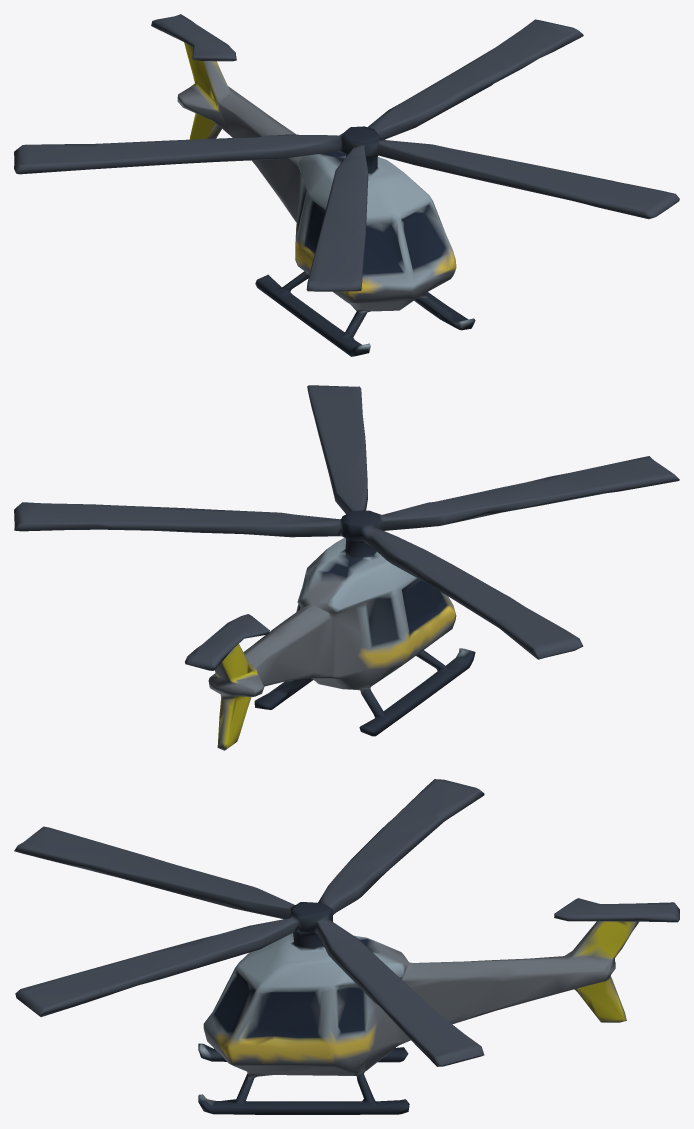
The model's file is gen3d-helicopter-lod0.glb.
3 renders of one model, top to bottom at view 1: azimuth 30°, elevation 25°; view 2: azimuth 150°, elevation 25°; view 3: azimuth 270°, elevation 25°, orthographic. The views are drawn at different scales.
Visible parts, largest first — view 1: part_0; view 2: part_0; view 3: part_0.
Part boxes in pixels (bbox=[...]): part_0: bbox=[14, 14, 679, 356]; part_0: bbox=[14, 385, 679, 750]; part_0: bbox=[14, 779, 679, 1114].
Bounding box in the file's own units: 3.43 × 1 × 3.41.
